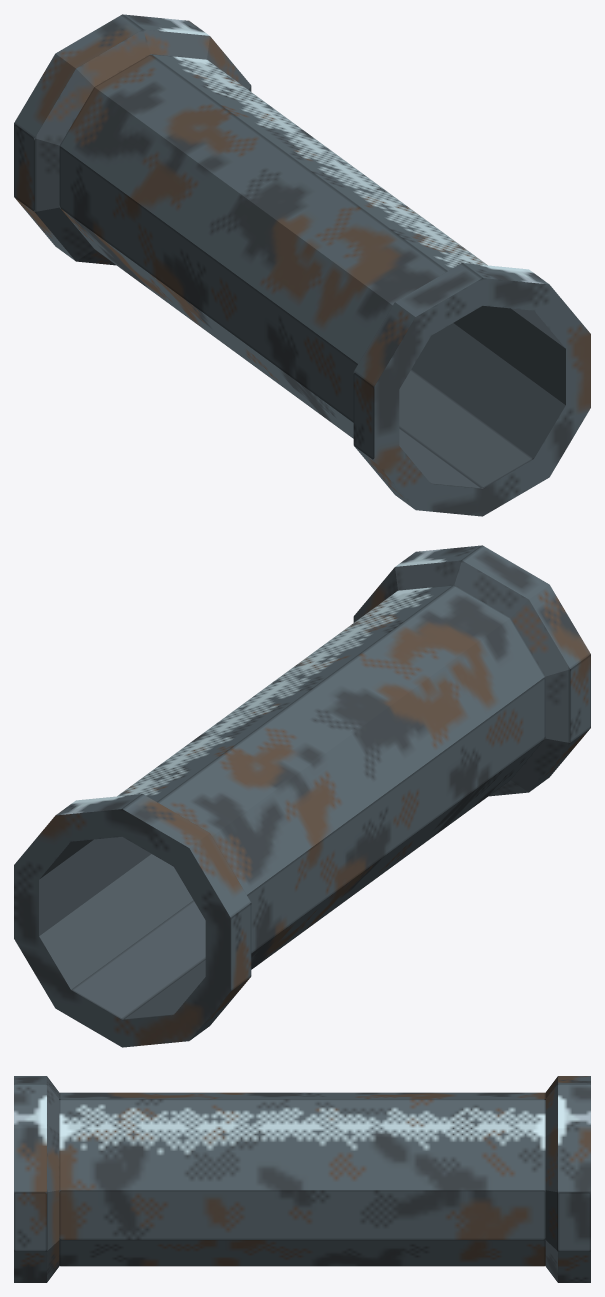
File: Pipe.fbx
The picture shows the model from 3 angles, top to bottom: view 1: azimuth 30°, elevation 25°; view 2: azimuth 150°, elevation 25°; view 3: azimuth 270°, elevation 25°; orthographic projection. The views are drawn at different scales.
Visible parts, largest first — view 1: Pipe; view 2: Pipe; view 3: Pipe.
Boxes of the visible parts, x1,y1,x2,y2 form: Pipe: (14,14,590,516); Pipe: (14,545,590,1047); Pipe: (14,1076,590,1282).
Bounding box in the file's own units: 139 × 146 × 400.
1 material, 1 textured.
